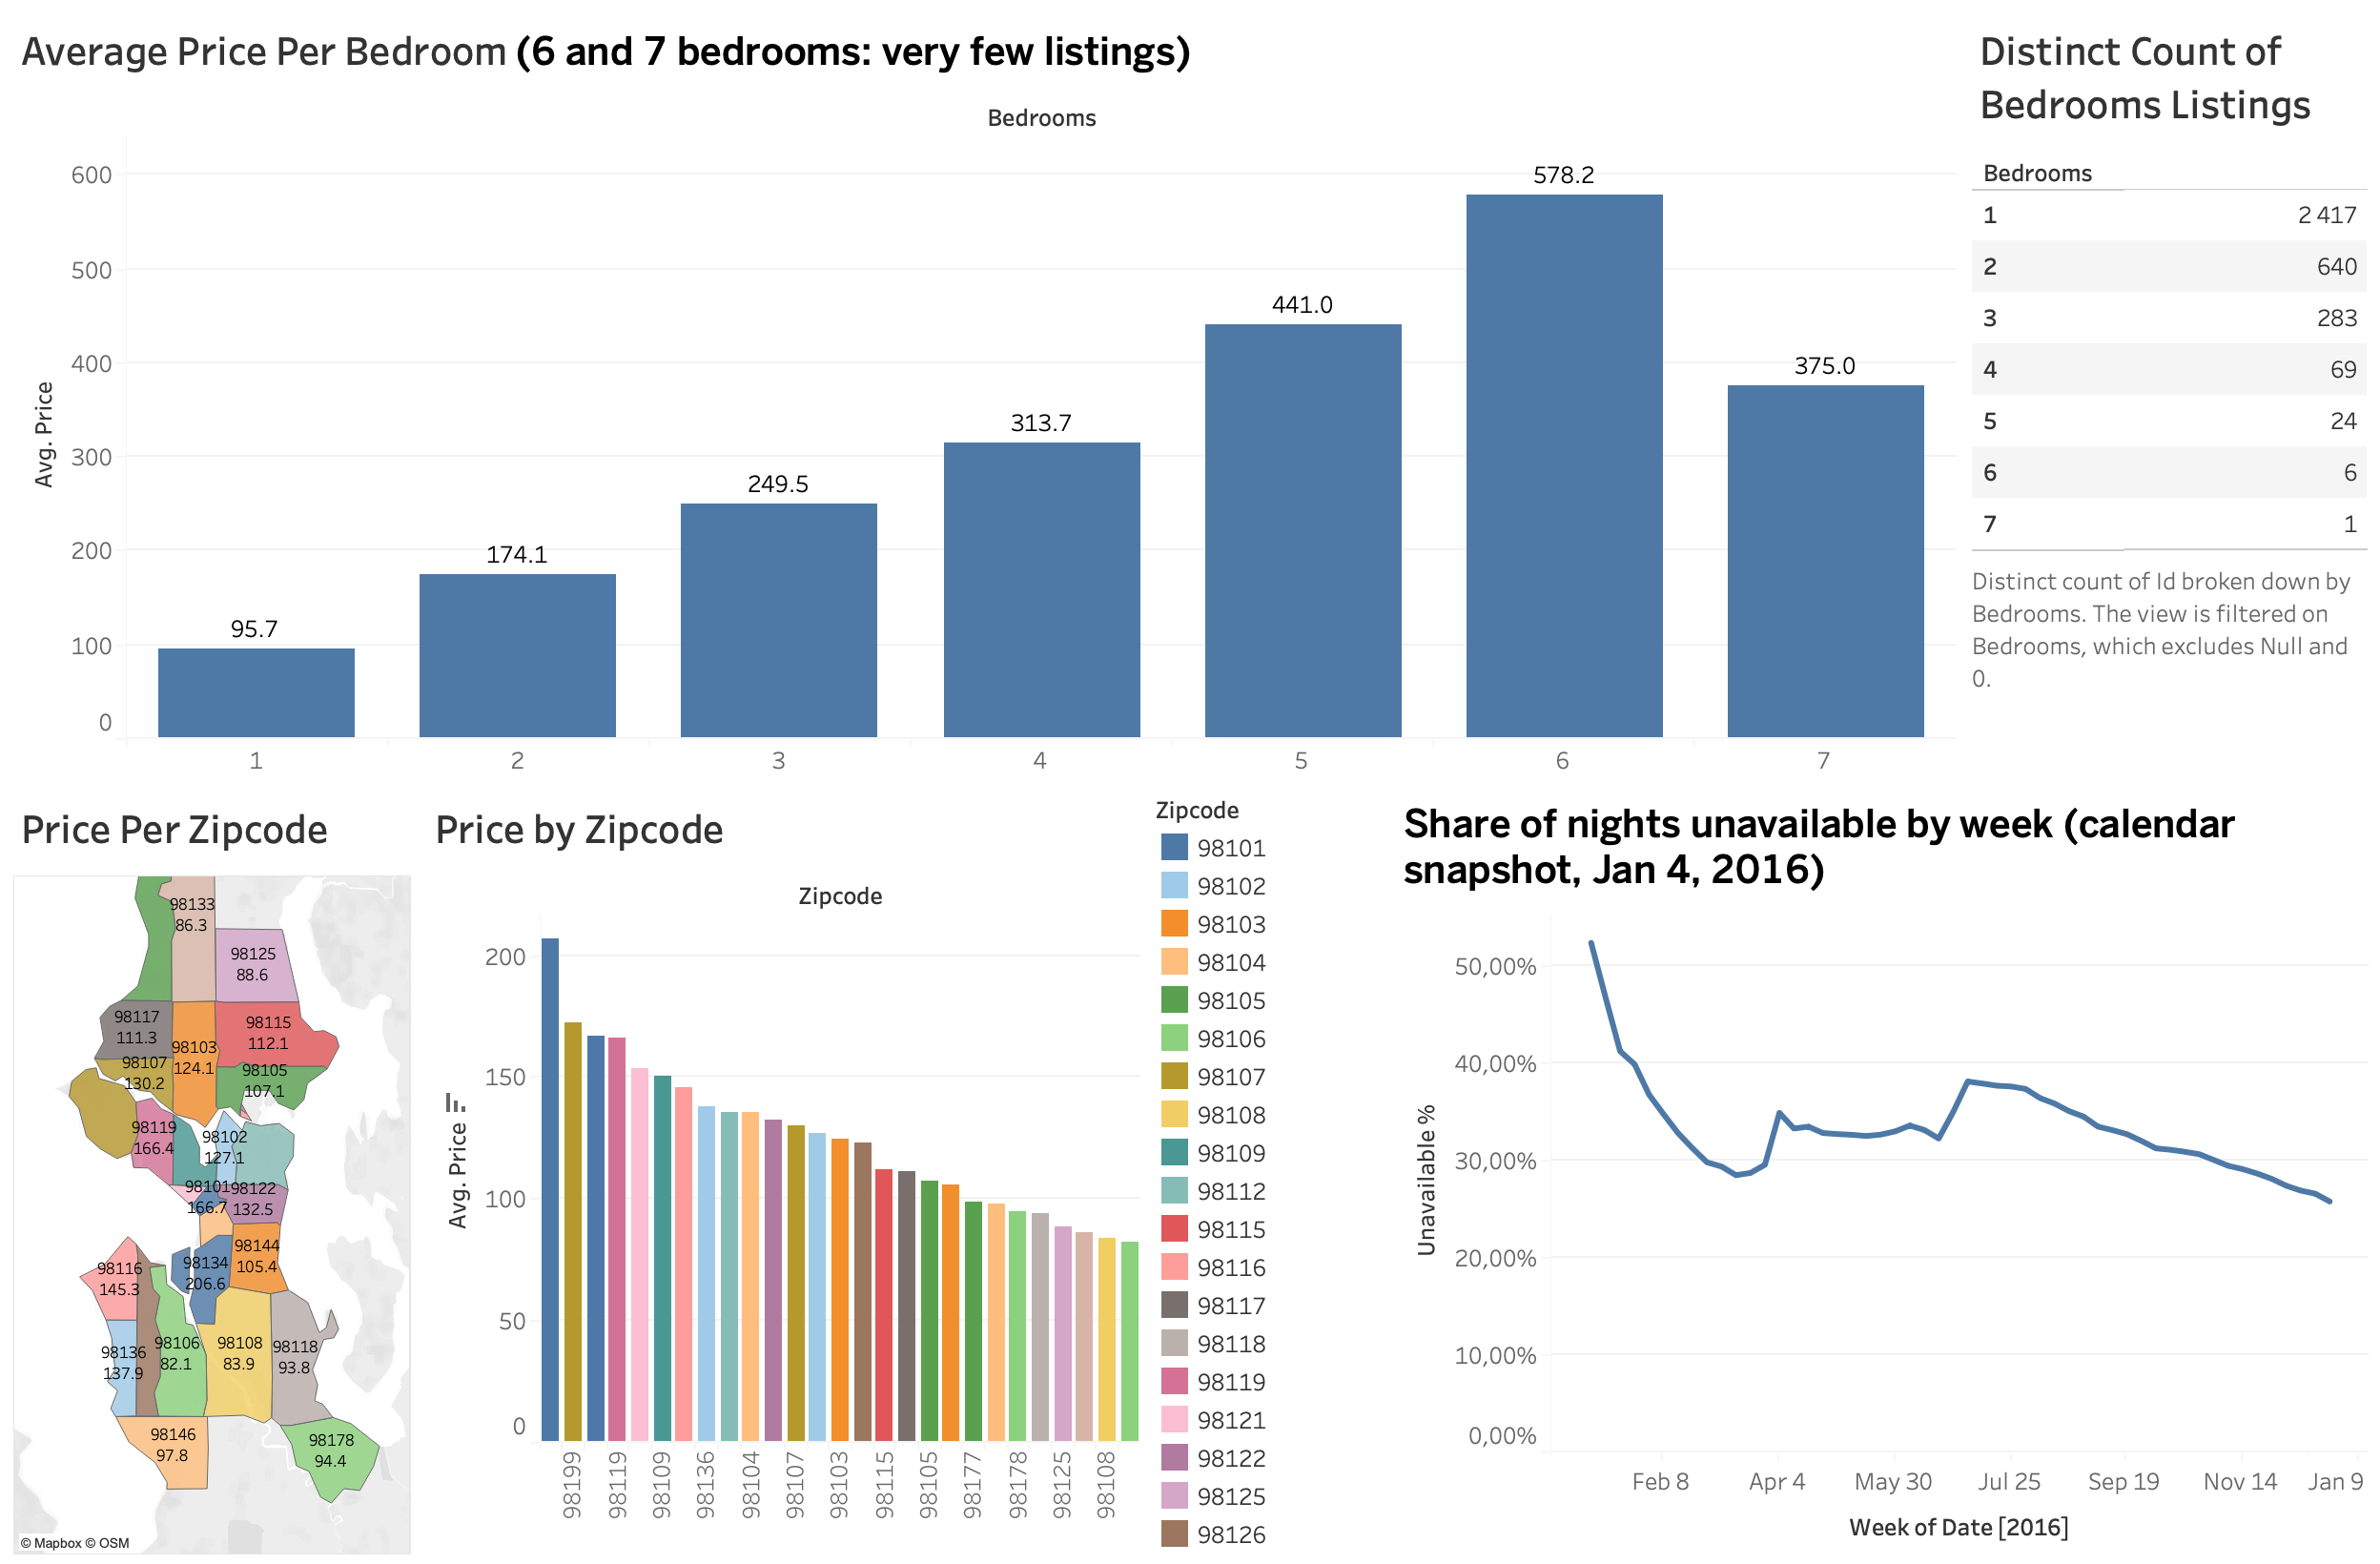

The dashboard page shown, as its layout file describes it:
{"tool":"tableau","page":{"name":"Dashboard 1","canvas":[1000,1000],"units":"permille","ordinal":0},"visuals":[{"type":"worksheet","title":"Sheet 4","mark":"Automatic","rows":["price"],"cols":["bedrooms"],"box":[6.4,10.7,815.7,489.3]},{"type":"worksheet","title":"Sheet 5","mark":"Automatic","rows":["bedrooms"],"box":[822.1,10.7,171.6,489.3]},{"type":"worksheet","title":"Sheet 2","mark":"Multipolygon","box":[6.4,500,172.4,489.3]},{"type":"worksheet","title":"Sheet 1","mark":"Automatic","rows":["price"],"cols":["zipcode"],"box":[178.7,500,303.4,489.3]},{"type":"legend","title":"Sheet 1","param":"[federated.1o4denz14oswn714dohf61h6fl59].[none:zipcode:ok]","box":[482.1,500,100.1,489.3]},{"type":"worksheet","title":"Sheet 3","mark":"Line","rows":["Calculation_5248029725704195"],"cols":["date"],"box":[582.2,500,411.4,489.3]}]}

Visuals, with their boxes on the dashboard's canvas, which has no fixed pixel size, in thousandths of its width and height (x1, y1, x2, y2). These are canvas units, not pixel positions in the 2380x1564 screenshot, which may show the page scaled, cropped or inside an application window:
"Sheet 4" worksheet: {"x1": 6, "y1": 11, "x2": 822, "y2": 500}
"Sheet 5" worksheet: {"x1": 822, "y1": 11, "x2": 994, "y2": 500}
"Sheet 2" worksheet (Multipolygon marks): {"x1": 6, "y1": 500, "x2": 179, "y2": 989}
"Sheet 1" worksheet: {"x1": 179, "y1": 500, "x2": 482, "y2": 989}
"Sheet 1" legend: {"x1": 482, "y1": 500, "x2": 582, "y2": 989}
"Sheet 3" worksheet (Line marks): {"x1": 582, "y1": 500, "x2": 994, "y2": 989}
